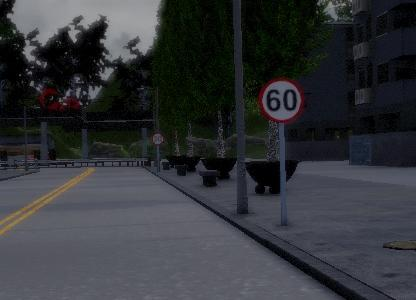Speed_60: (257, 76, 306, 125)
